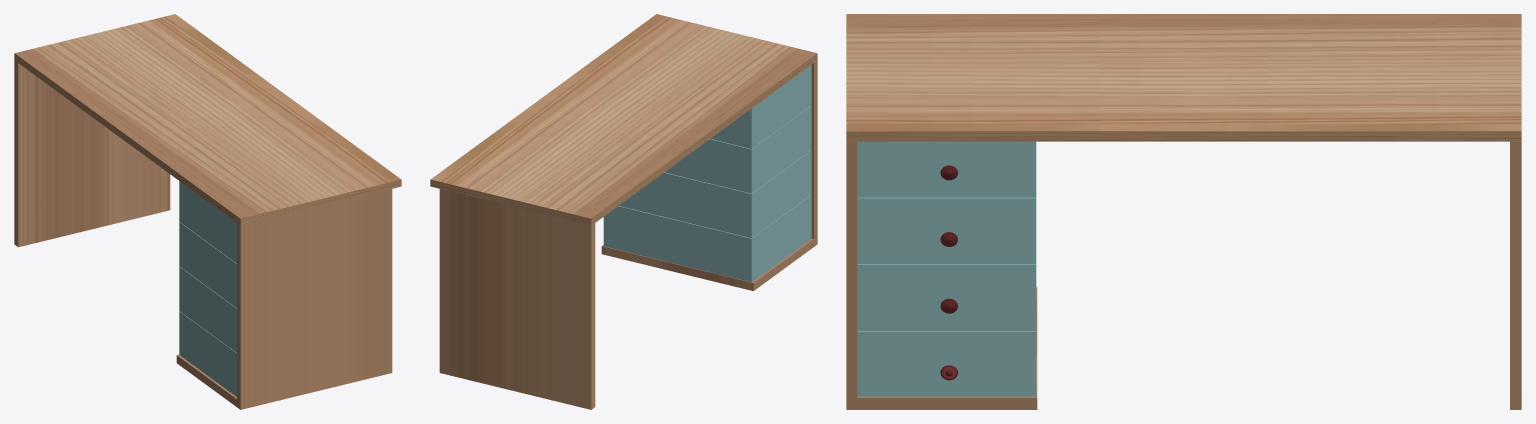
The model's file is desk.glb.
The picture shows the model from 3 angles, left to right: view 1: azimuth 30°, elevation 25°; view 2: azimuth 150°, elevation 25°; view 3: azimuth 270°, elevation 25°; orthographic projection. The views are drawn at different scales.
Parts seen in each view (by area): view 1: Cube.010, Cube.011; view 2: Cube.010, Cube.011; view 3: Cube.010, Cube.011.
Boxes of the visible parts, x1=… form: Cube.010: x1=14, y1=14, x2=401, y2=409; Cube.011: x1=179, y1=181, x2=236, y2=396; Cube.010: x1=430, y1=14, x2=817, y2=409; Cube.011: x1=603, y1=65, x2=811, y2=282; Cube.010: x1=846, y1=14, x2=1521, y2=409; Cube.011: x1=857, y1=141, x2=1036, y2=396.
Bounding box in the file's own units: 0.9334 × 1.06 × 2.27.
3 materials, 2 textured.
